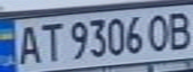0: (106, 15, 127, 56)
3: (87, 16, 109, 58)
6: (124, 12, 148, 55)
9: (63, 17, 90, 61)
A: (12, 21, 45, 66)
B: (163, 8, 193, 52)
O: (145, 11, 172, 53)
T: (36, 20, 66, 63)
